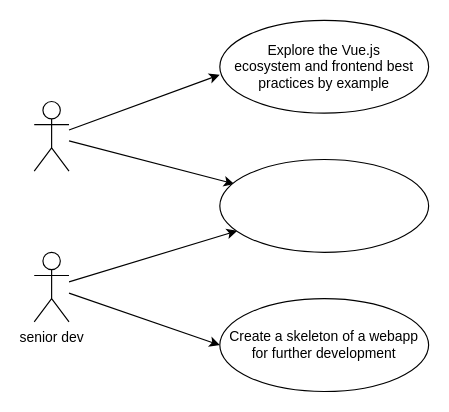
The diagram is 449 pixels wide and 412 high, and some of its shapes have lost their labels. The shapes that lost their labels are listed below. From the top down, each one's centre as x and y in pixels, then its label:
At point (51, 135): "junior dev".
At point (324, 205): "Scaffold adaptive SPA with predefined functiontional elements".
